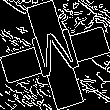M_S: (25, 24, 85, 86)
